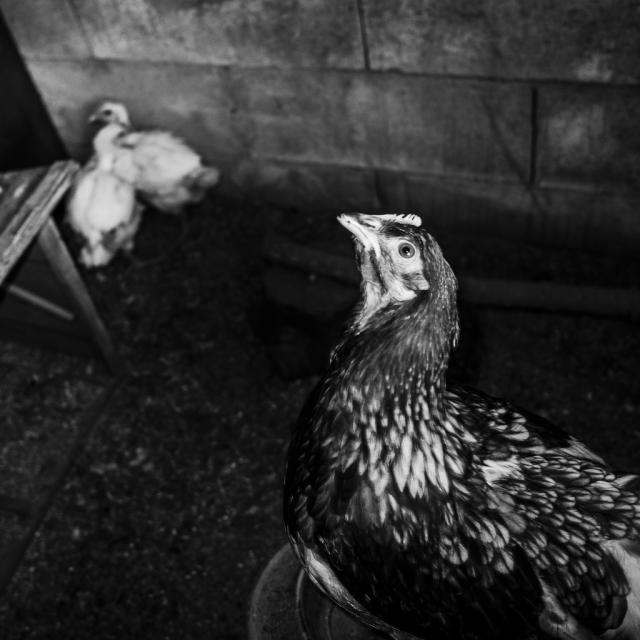Chicken: (276, 206, 640, 632)
